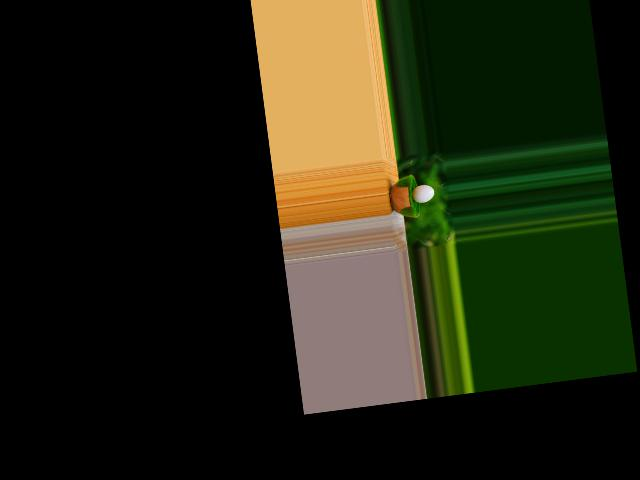egg: (410, 184, 435, 204)
